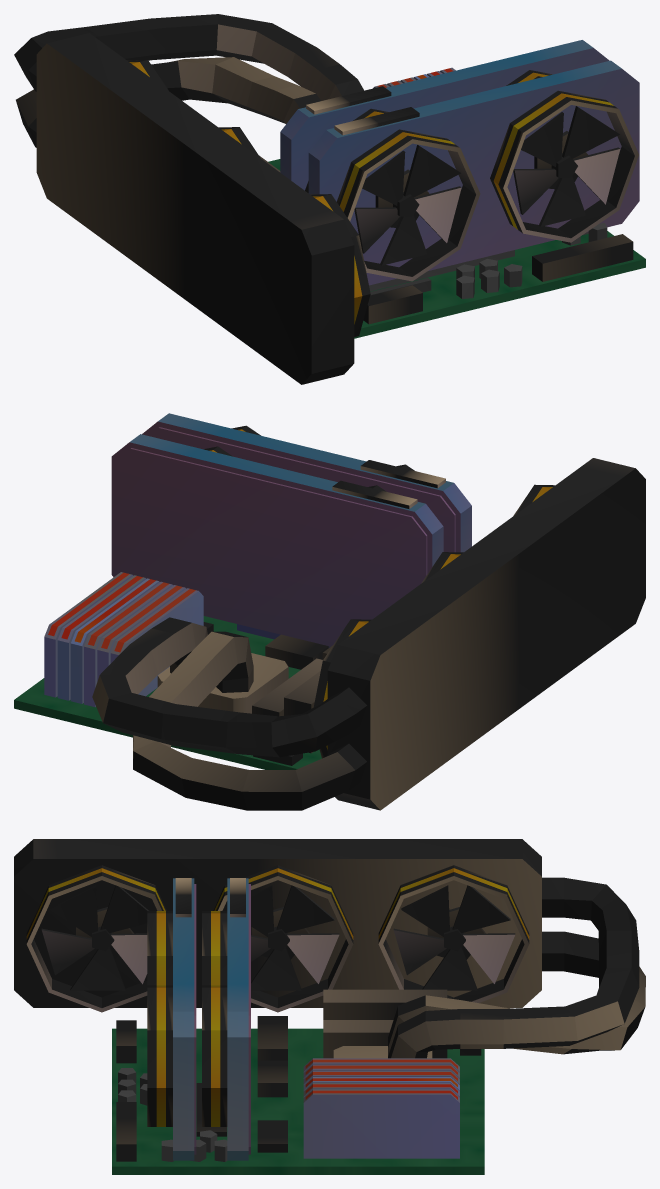
Rendered from PowerLvl5.fbx.
The picture shows the model from 3 angles, top to bottom: view 1: azimuth 30°, elevation 25°; view 2: azimuth 150°, elevation 25°; view 3: azimuth 270°, elevation 25°; orthographic projection. The views are drawn at different scales.
Parts seen in each view (by area): view 1: power_lvl5; view 2: power_lvl5; view 3: power_lvl5.
Part boxes in pixels (bbox=[...]): power_lvl5: bbox=[14, 14, 645, 384]; power_lvl5: bbox=[14, 413, 645, 810]; power_lvl5: bbox=[14, 839, 645, 1174].
Bounding box in the file's own units: 0.6207 × 0.2564 × 0.8617.
